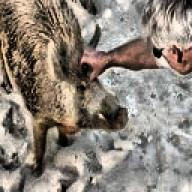boar: (0, 0, 128, 177)
